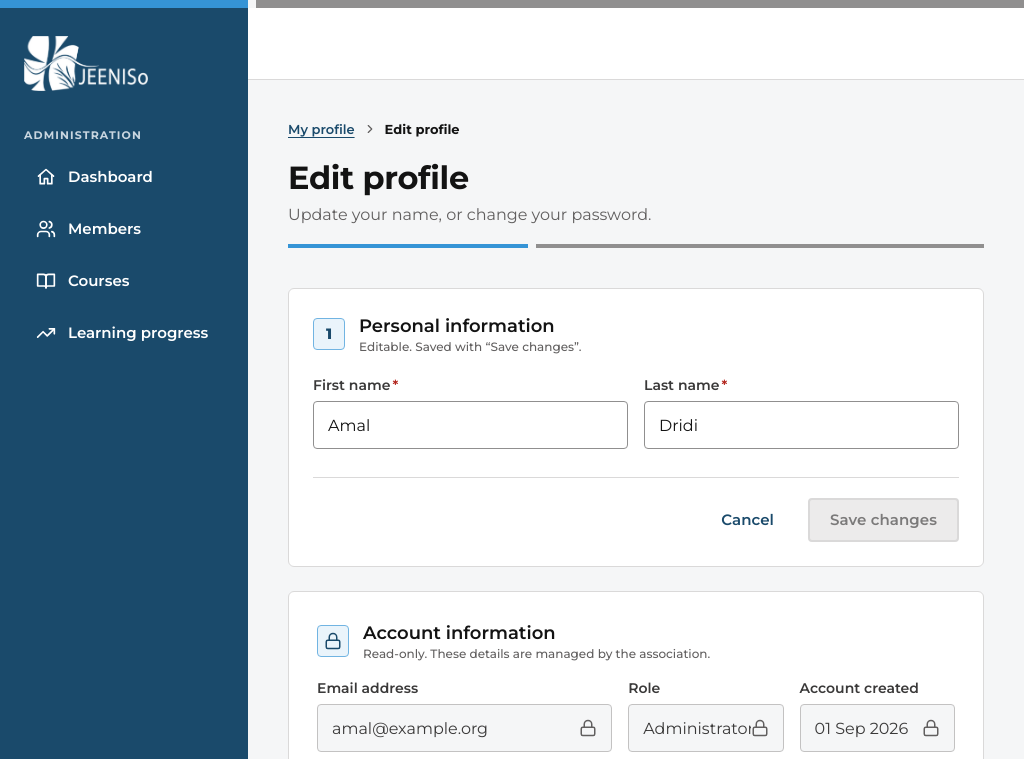
it: profile - edit › an administrator edits their own profile the same way
This screenshot has width=1024, height=759.
Expected: the heading "Edit profile" is shown, left=288, top=158, right=469, bottom=197
Expected: the field labelled "Role" holds "Administrator", left=629, top=705, right=751, bottom=751
Type " Nour" into the field labelled "First name*" at (470, 425), box left=314, top=402, right=627, bottom=448
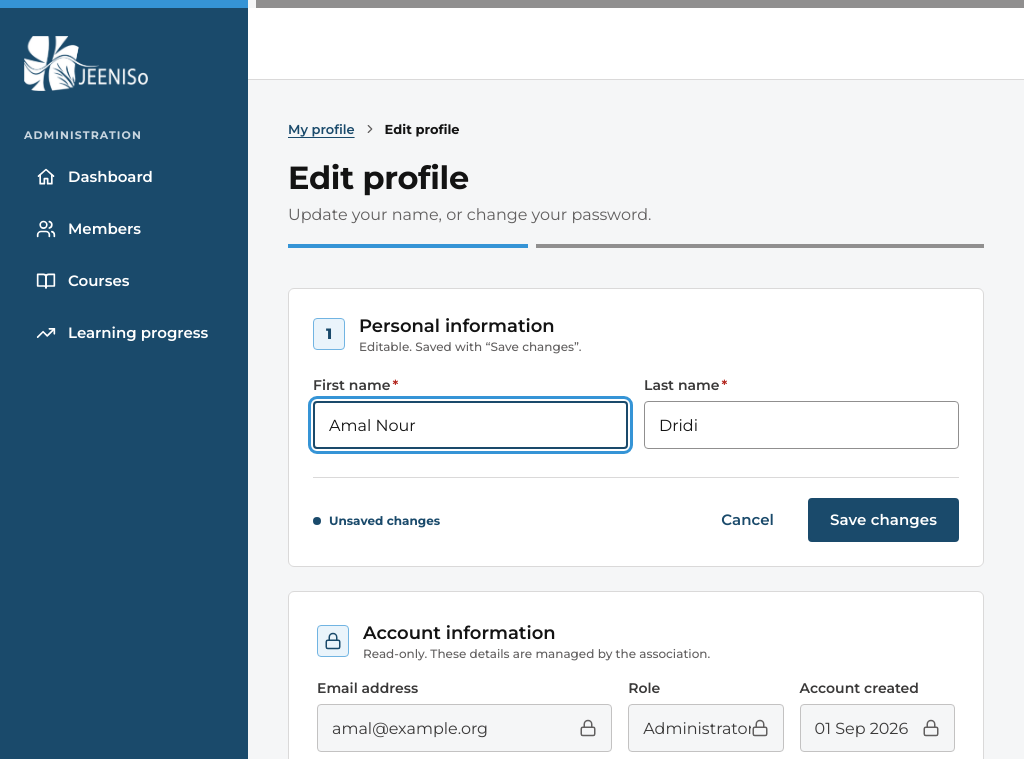
Click the button "Save changes" at (884, 520), box left=808, top=498, right=959, bottom=542
(page scrolled)
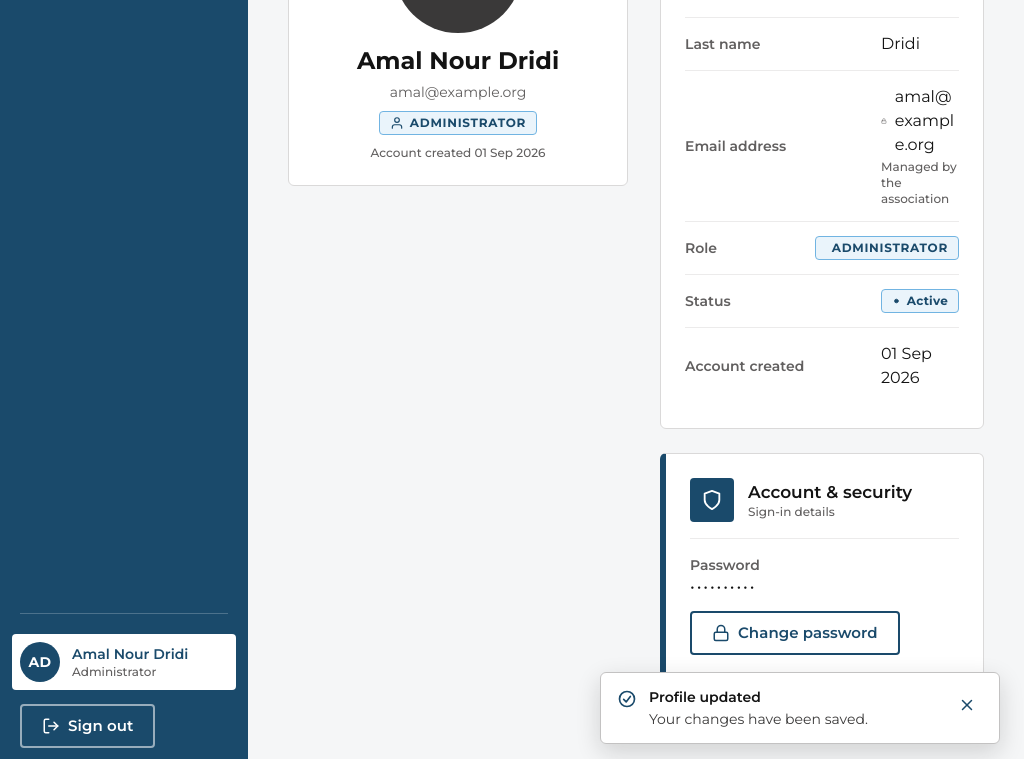
Expected: the link with aria-label "My profile — Amal Nour Dridi" is shown, left=12, top=634, right=236, bottom=690
